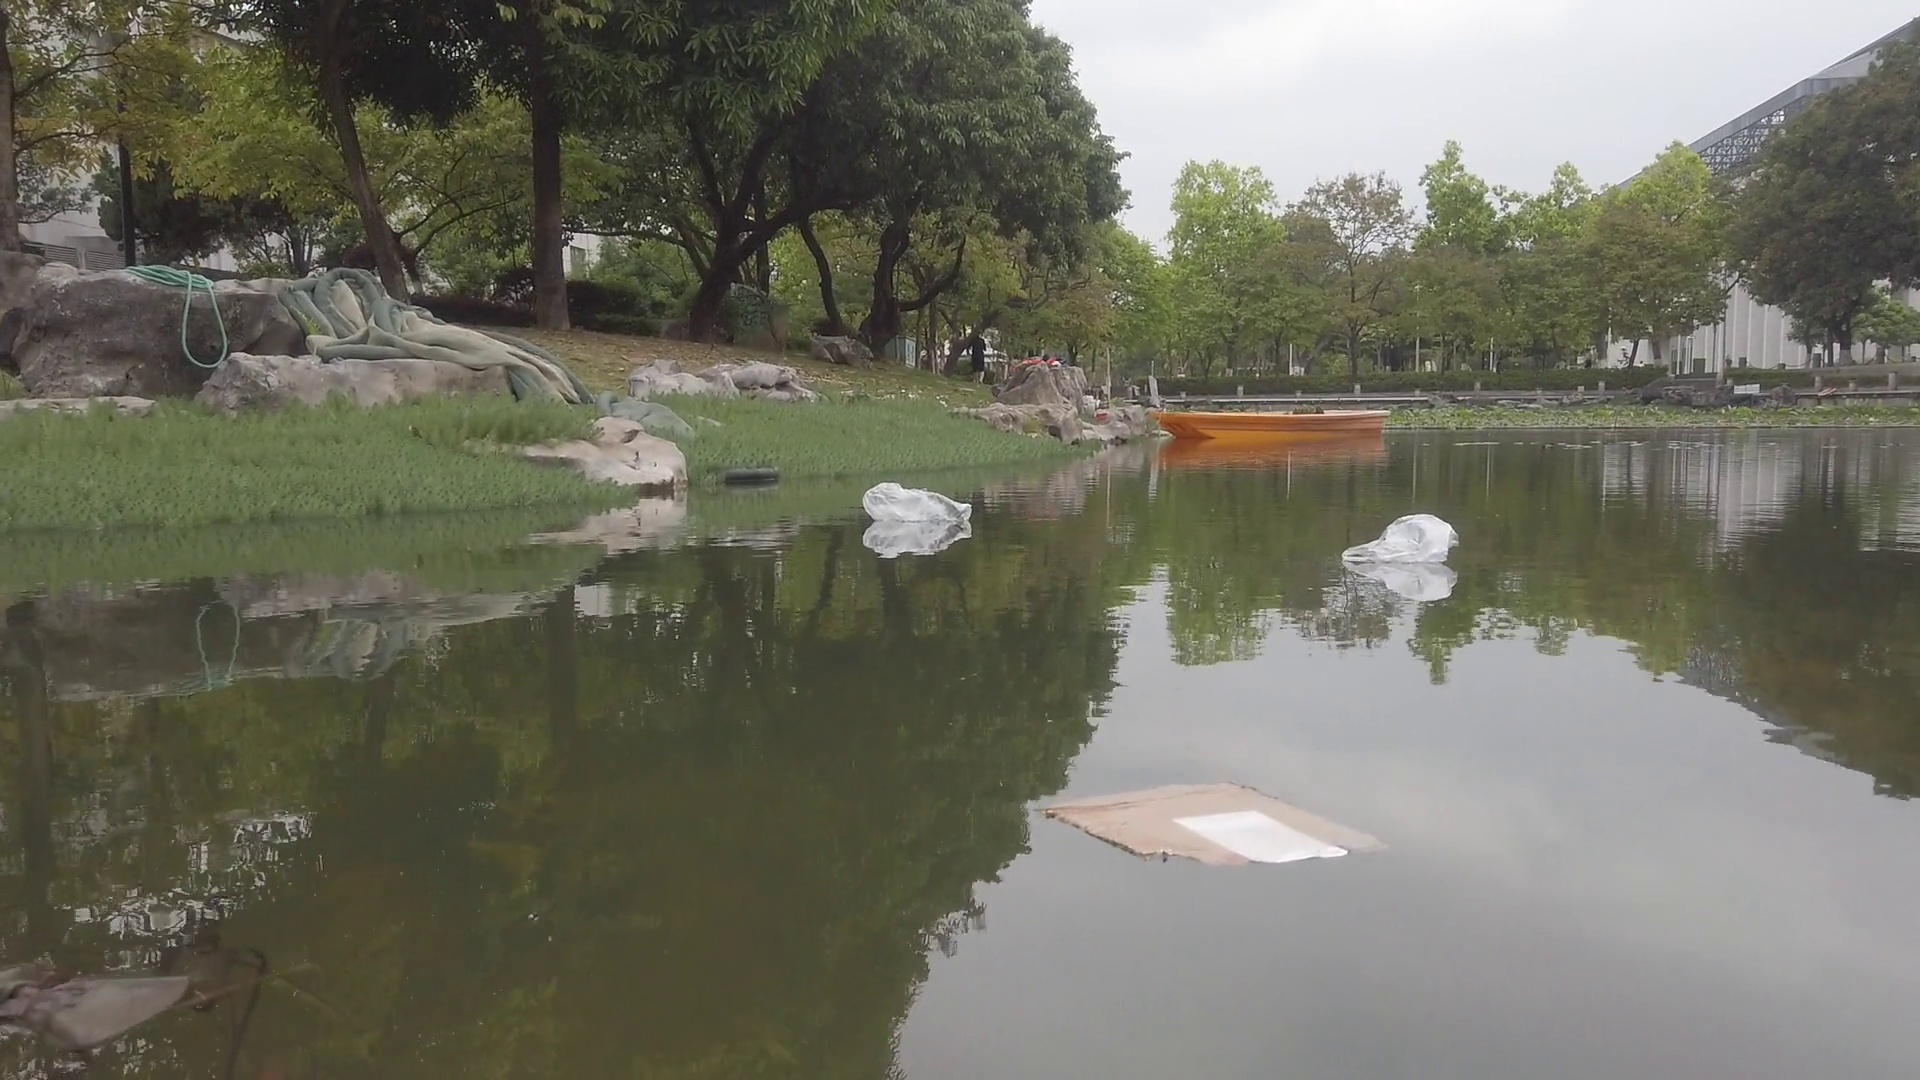paper: (1042, 785, 1346, 866)
plastic: (1344, 513, 1458, 560), (865, 483, 967, 524)
